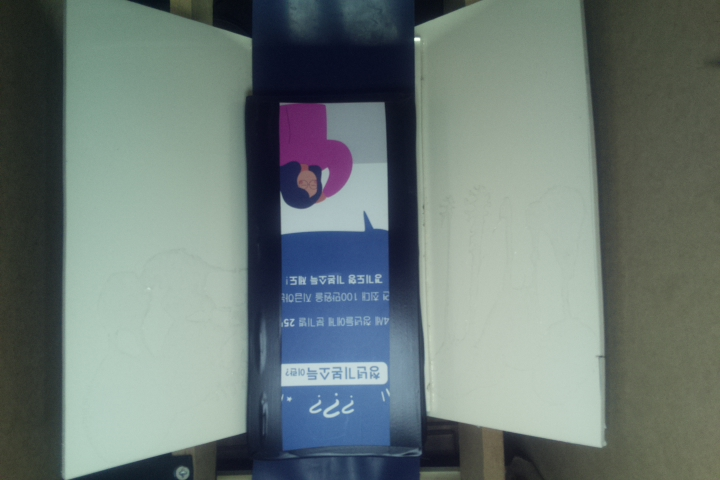book: (246, 84, 423, 463)
